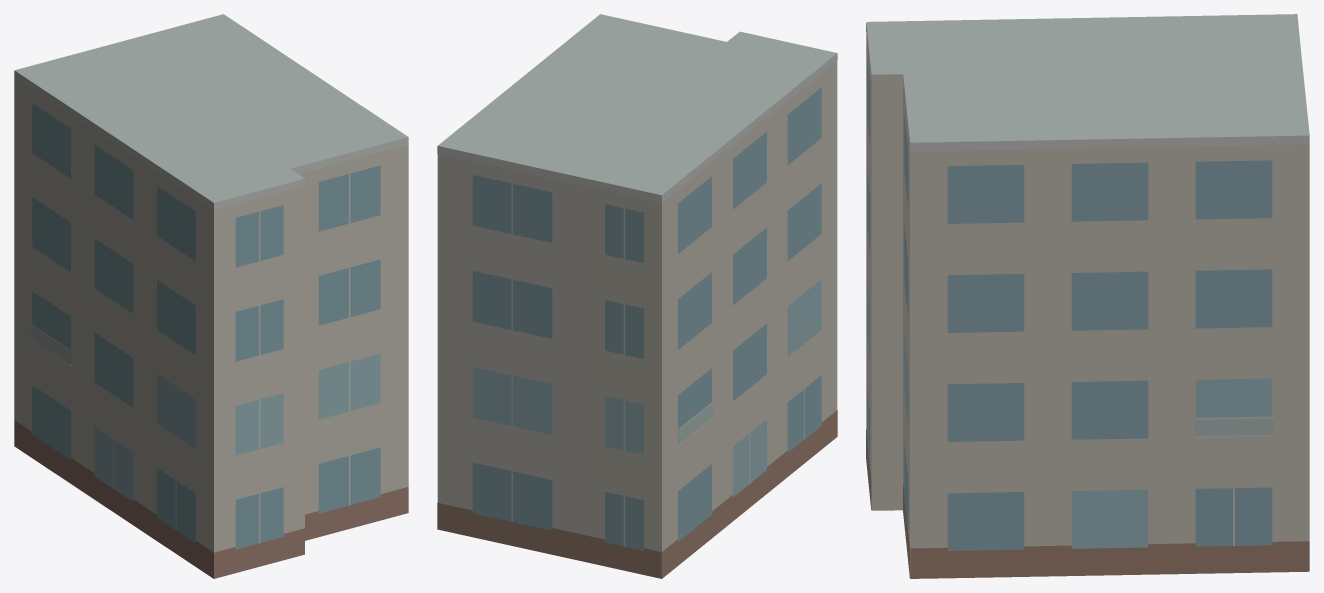
The model's file is residential-8d676bc7-1673-43cf-8239-8c72ad26da75.glb.
3 views of the same model, side by side, from view 1: azimuth 30°, elevation 25°; view 2: azimuth 150°, elevation 25°; view 3: azimuth 270°, elevation 25° (orthographic). The views are drawn at different scales.
Parts seen in each view (by area): view 1: residential-8d676bc7-1673-43cf-8239-8c72ad26da75.tmp; view 2: residential-8d676bc7-1673-43cf-8239-8c72ad26da75.tmp; view 3: residential-8d676bc7-1673-43cf-8239-8c72ad26da75.tmp.
Part boxes in pixels (<box>): residential-8d676bc7-1673-43cf-8239-8c72ad26da75.tmp: <box>14,14,408,578</box>; residential-8d676bc7-1673-43cf-8239-8c72ad26da75.tmp: <box>437,14,837,578</box>; residential-8d676bc7-1673-43cf-8239-8c72ad26da75.tmp: <box>866,14,1309,578</box>.
Size of the model in its own units: 7.73 by 12.2 by 11.26.
